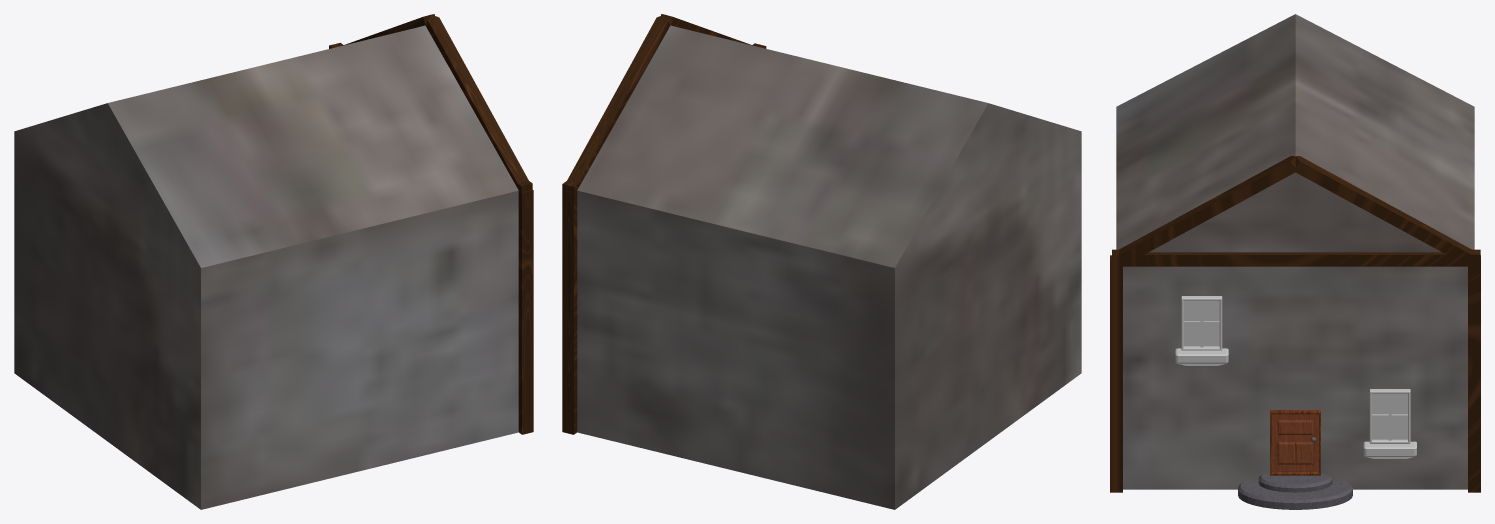
File: opustenyDum.fbx
The picture shows the model from 3 angles, left to right: view 1: azimuth 30°, elevation 25°; view 2: azimuth 150°, elevation 25°; view 3: azimuth 270°, elevation 25°; orthographic projection. The views are drawn at different scales.
Parts seen in each view (by area): view 1: Cube, Sloup1; view 2: Cube, Sloup1; view 3: Cube, Sloup1, Cylinder, Dvere, OknoP, OknoP.001.
Part boxes in pixels (bbox=[...]): Cube: bbox=[14, 25, 518, 509]; Sloup1: bbox=[329, 14, 533, 434]; Cube: bbox=[577, 25, 1081, 509]; Sloup1: bbox=[562, 14, 766, 434]; Cube: bbox=[1116, 14, 1474, 489]; Sloup1: bbox=[1110, 156, 1480, 492]; Cylinder: bbox=[1238, 474, 1352, 509]; Dvere: bbox=[1270, 410, 1320, 475]; OknoP: bbox=[1363, 389, 1416, 458]; OknoP.001: bbox=[1175, 296, 1228, 365].
Size of the model in its own units: 1589 by 1439 by 1450.
